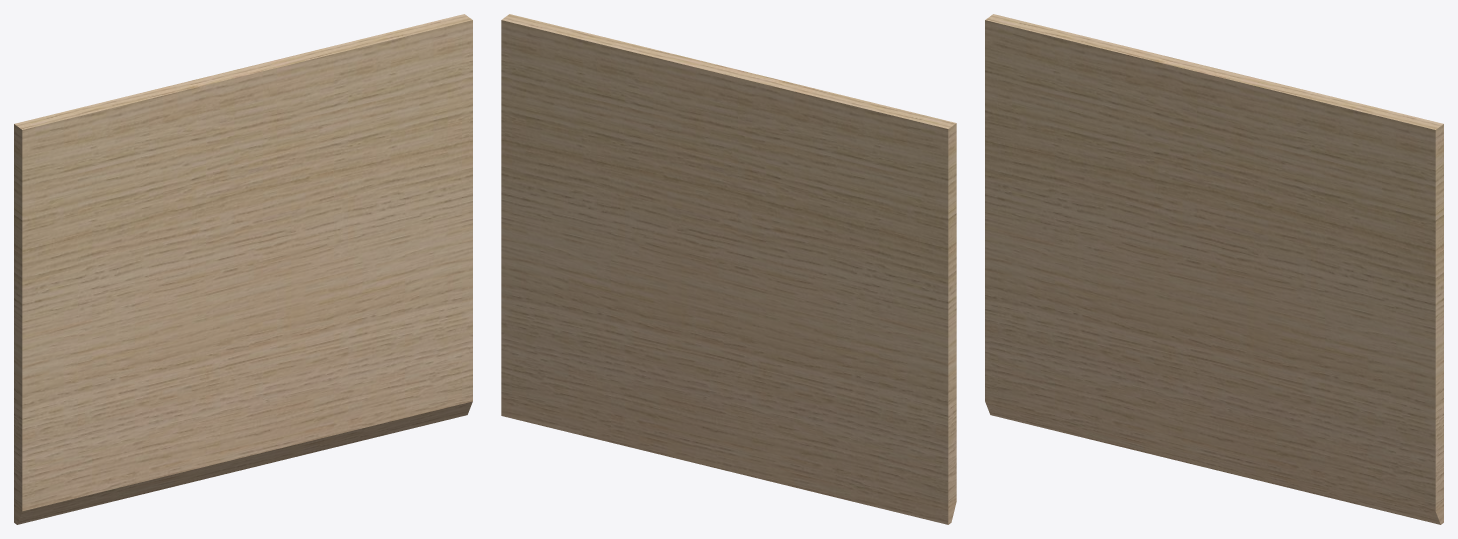
Rendered from dor_S8_dor_1894.glb.
3 views of the same model, side by side, from view 1: azimuth 30°, elevation 25°; view 2: azimuth 150°, elevation 25°; view 3: azimuth 330°, elevation 25° (orthographic).
Size of the model in its own units: 594 by 502 by 19.
1 material, 1 textured.
